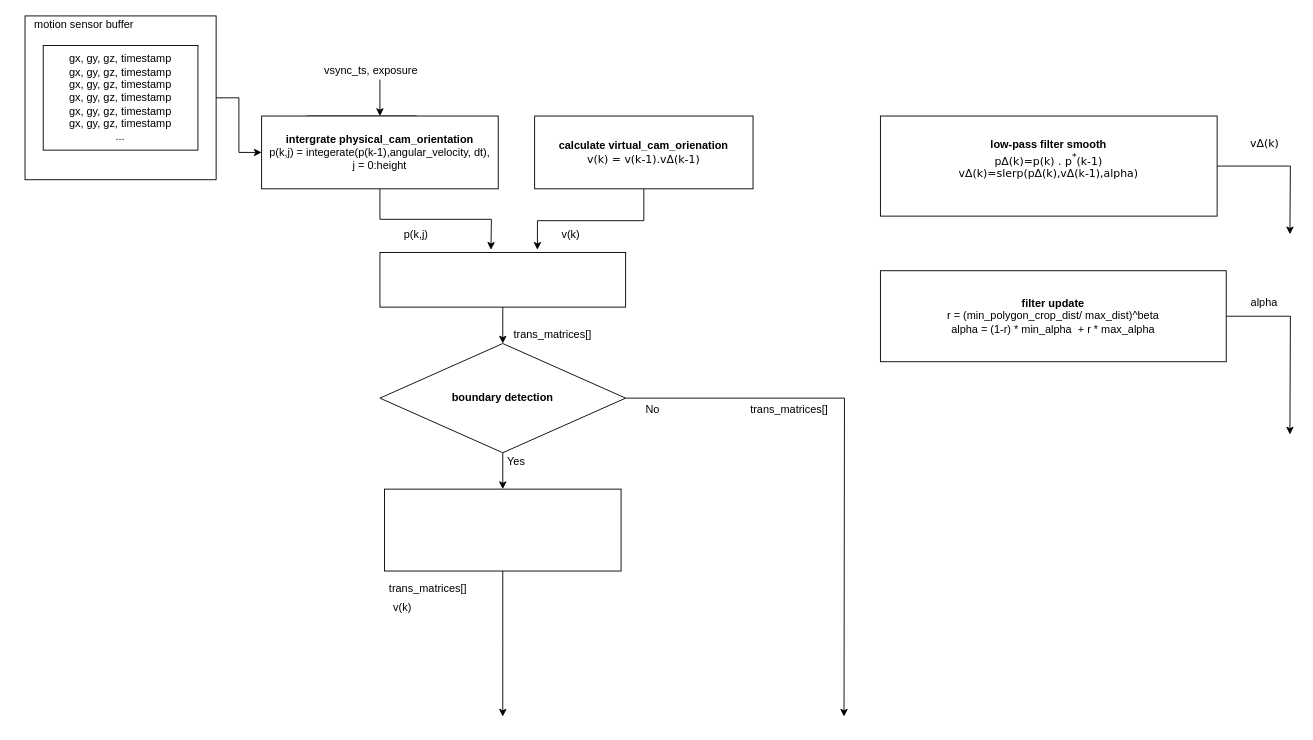
The diagram is 1313 pixels wide and 740 high, and some of its shapes have lost their labels. Each missing label, with the box of its shape:
boundary control: (384, 488, 621, 571)
calculate trans_matrices: (379, 252, 626, 307)
